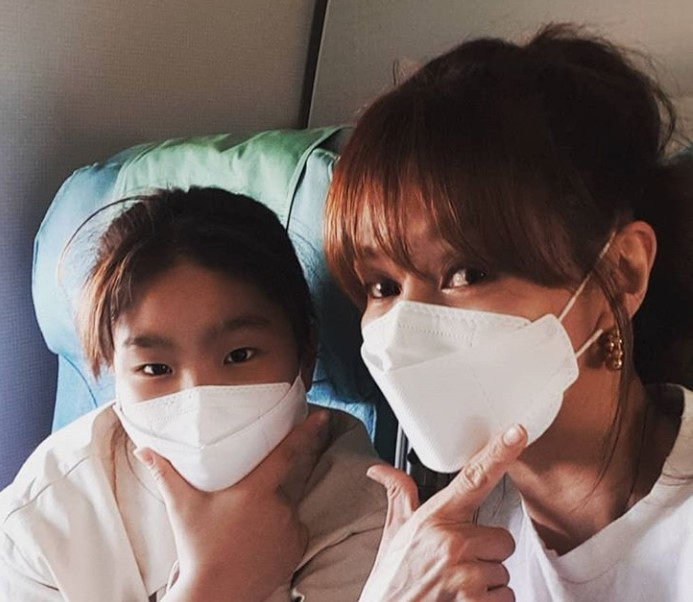face_with_mask: (339, 37, 659, 476), (91, 192, 314, 497)
